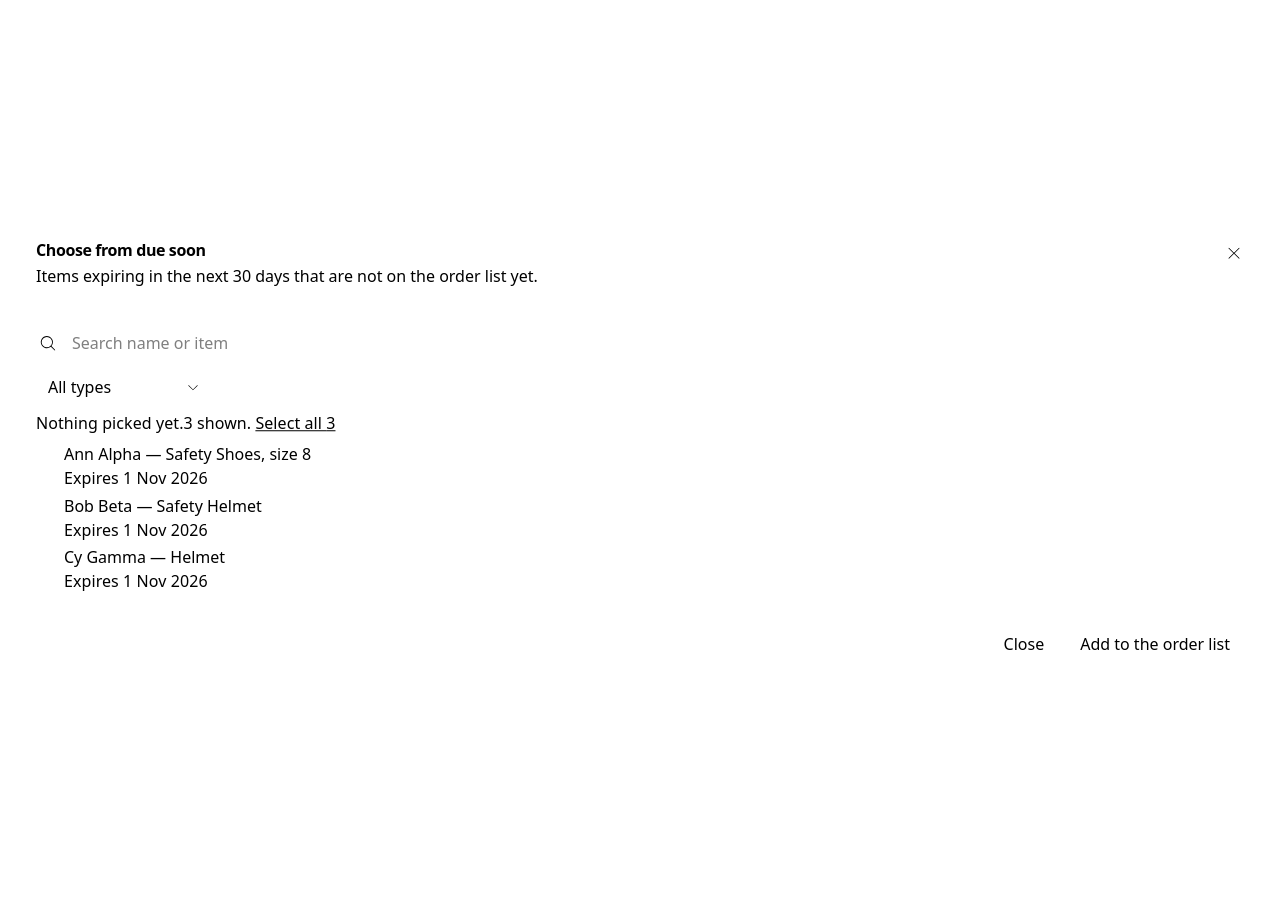
Scenario: ChooseSoonDialog › matches the type without regard to case
What coordinates should you click on to do the following:
click the dropdown named "PPE type"
I would click on:
 (124, 387)
Its box is [36,369,212,405].
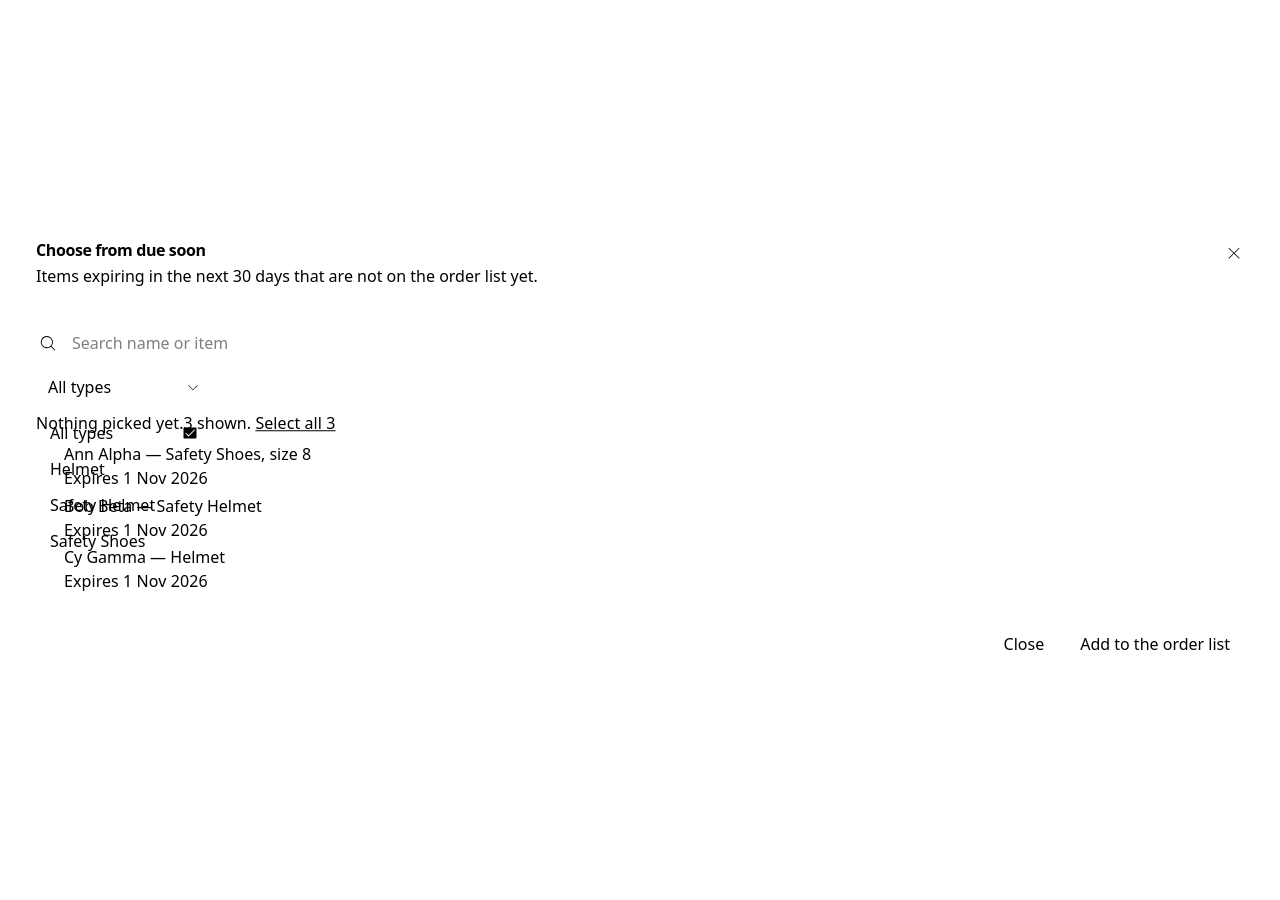
What coordinates should you click on to do the following:
click the option "Safety Helmet"
I would click on:
 (103, 505)
Its box is [50,494,155,516].
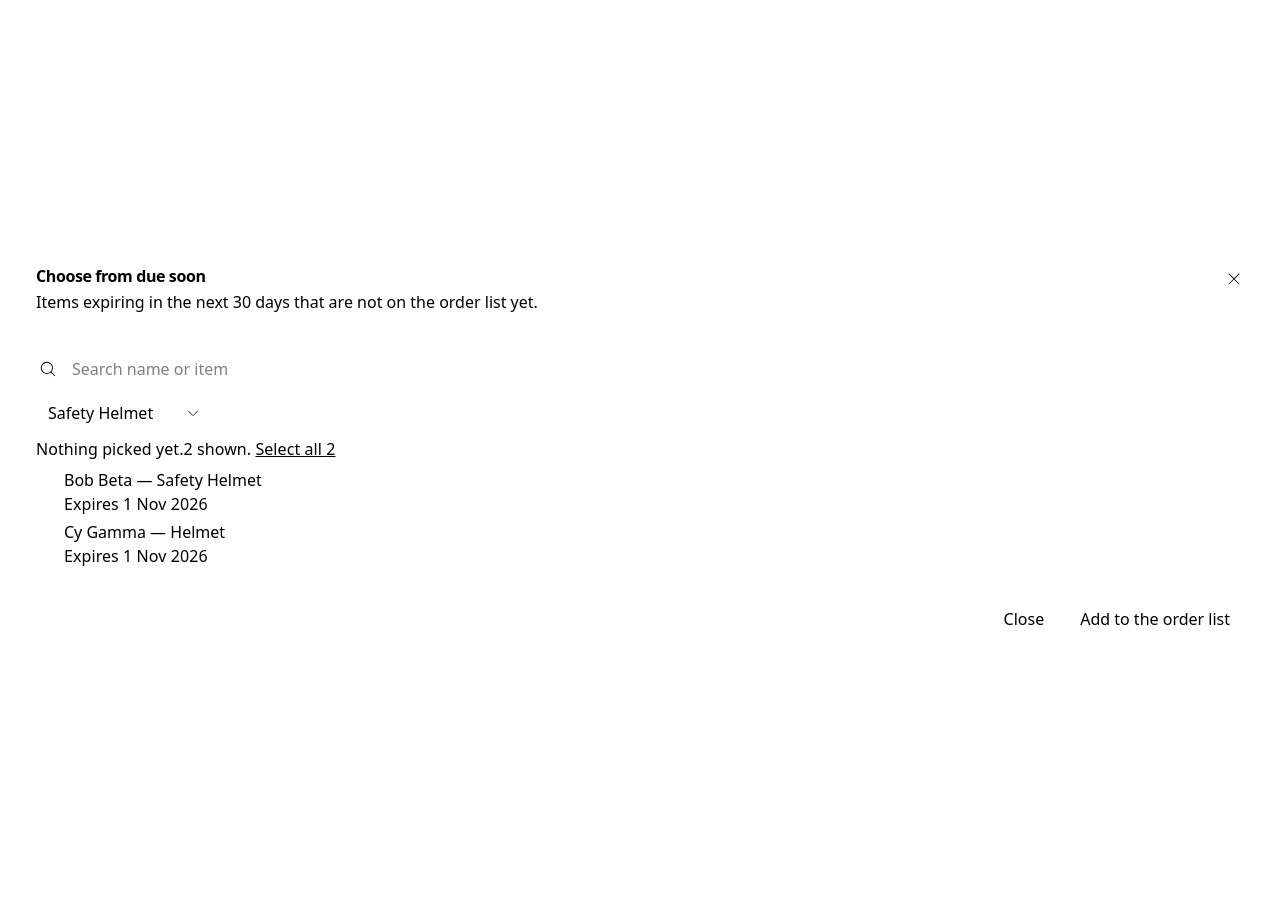
Expected: the label "Ann Alpha" is gone
